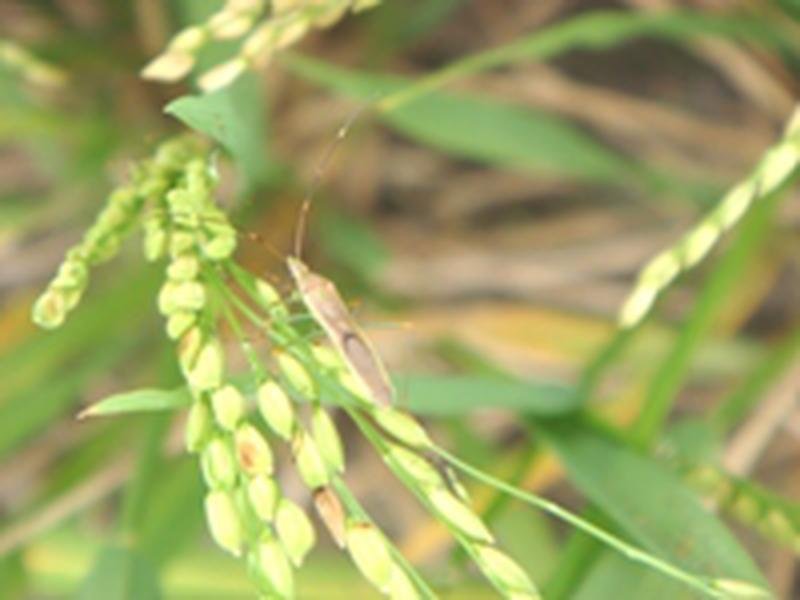Rice_earhead_bug: (231, 227, 413, 426)
